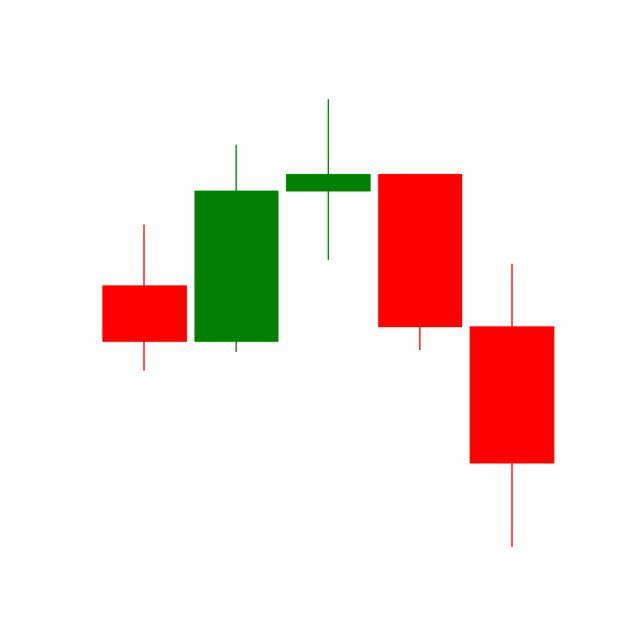Marubozu: (374, 173, 468, 353)
